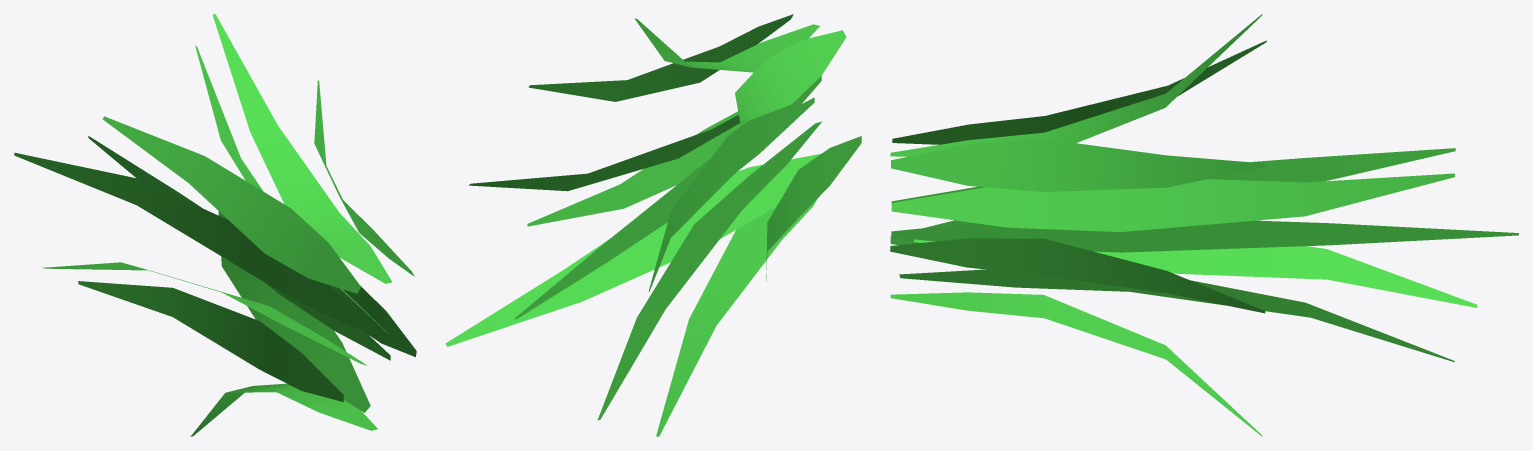
Rendered from Grass2.0.fbx.
3 renders of one model, left to right at view 1: azimuth 30°, elevation 25°; view 2: azimuth 150°, elevation 25°; view 3: azimuth 270°, elevation 25°, orthographic. The views are drawn at different scales.
Parts seen in each view (by area): view 1: Plane.007; view 2: Plane.007; view 3: Plane.007.
Boxes of the visible parts, x1,y1,x2,y2 form: Plane.007: (14,14,416,436); Plane.007: (445,14,861,436); Plane.007: (890,14,1518,436).
Size of the model in its own units: 24.42 by 40.21 by 52.95.
